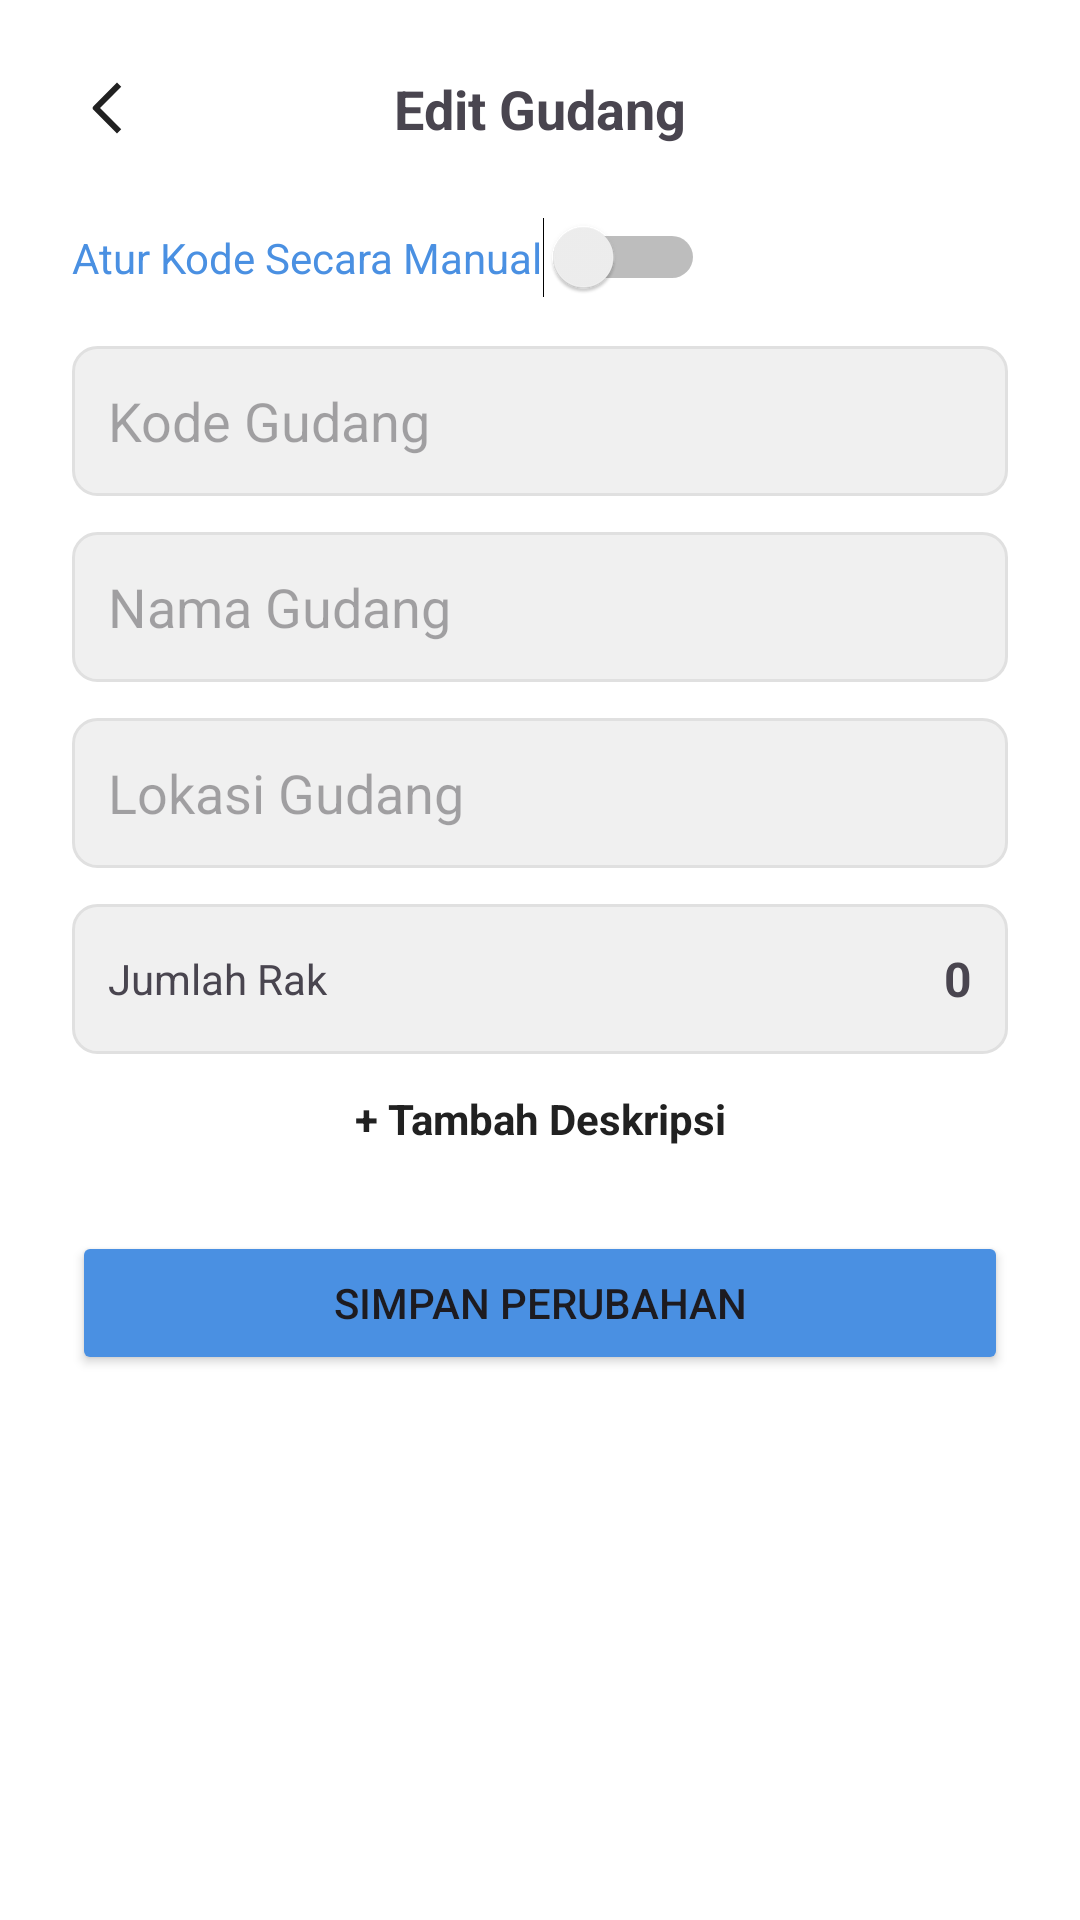

Screen size 1080w x 1920h. Icon name, then its center in pixels as point (x, y):
back: point (106, 108)
